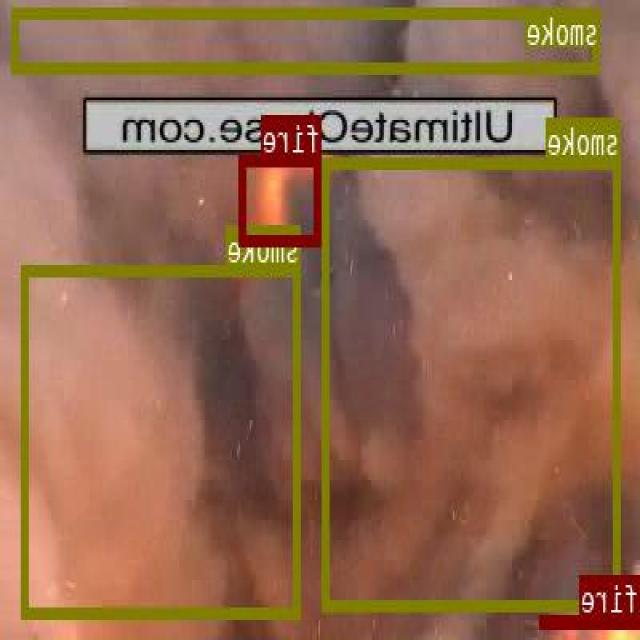fire: (240, 155, 322, 244), (541, 612, 640, 628)
smoke: (324, 156, 622, 609), (22, 264, 302, 615), (14, 5, 602, 72)
